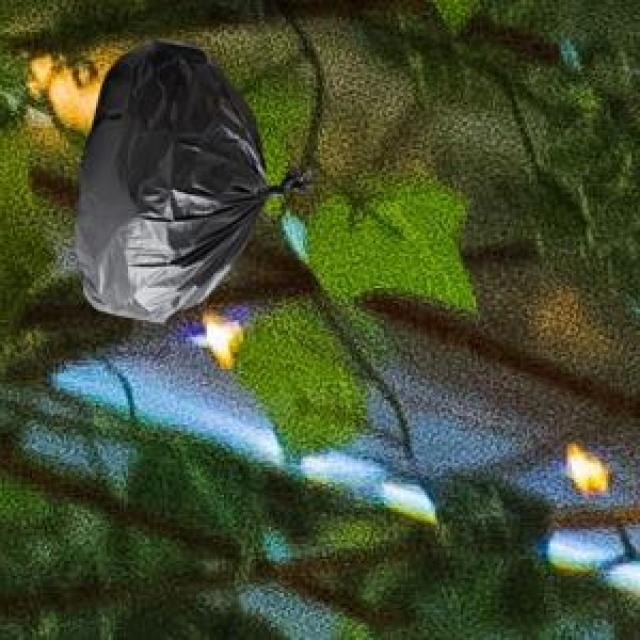Trashbag: (67, 41, 320, 330)
